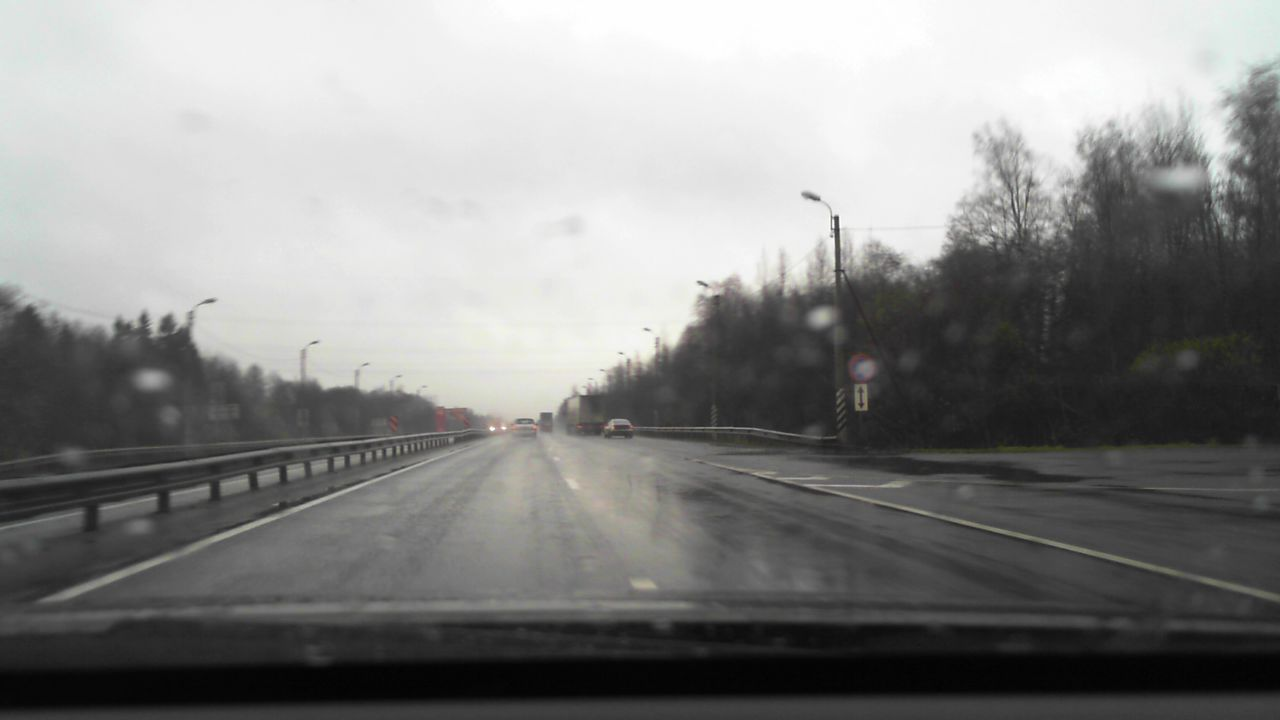No Parking: (847, 352, 877, 382)
